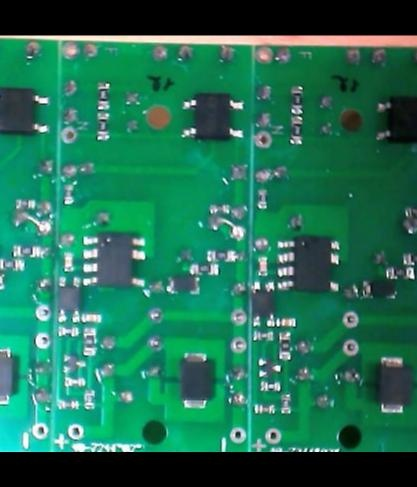chip-capacitor: (80, 312, 103, 324), (62, 252, 75, 273), (256, 255, 268, 277), (275, 316, 296, 326)
chip-resistor: (81, 327, 97, 358), (94, 111, 110, 142), (384, 265, 415, 281), (94, 80, 110, 110), (276, 331, 292, 361), (289, 84, 305, 114), (11, 242, 40, 258), (288, 115, 303, 145), (188, 262, 220, 276), (206, 249, 235, 263), (0, 258, 25, 271), (13, 197, 37, 210), (257, 380, 282, 392), (57, 398, 80, 411), (55, 325, 78, 338), (62, 183, 75, 206), (278, 393, 291, 416), (251, 329, 274, 342), (253, 403, 276, 415), (255, 187, 267, 210), (83, 389, 96, 410), (62, 376, 86, 387), (208, 203, 230, 214), (401, 251, 417, 266), (403, 205, 417, 217)
diode: (375, 355, 413, 414), (178, 351, 215, 409), (0, 346, 15, 407), (165, 275, 201, 296), (361, 280, 397, 301)
ic: (273, 234, 342, 294), (81, 230, 148, 289), (180, 90, 246, 142), (0, 85, 51, 137), (375, 95, 417, 144), (56, 275, 82, 324), (250, 279, 276, 327)
transistor: (256, 357, 282, 379), (59, 353, 86, 374)
